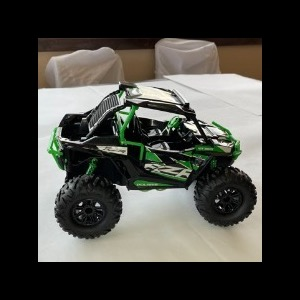polaris: (48, 82, 259, 242)
